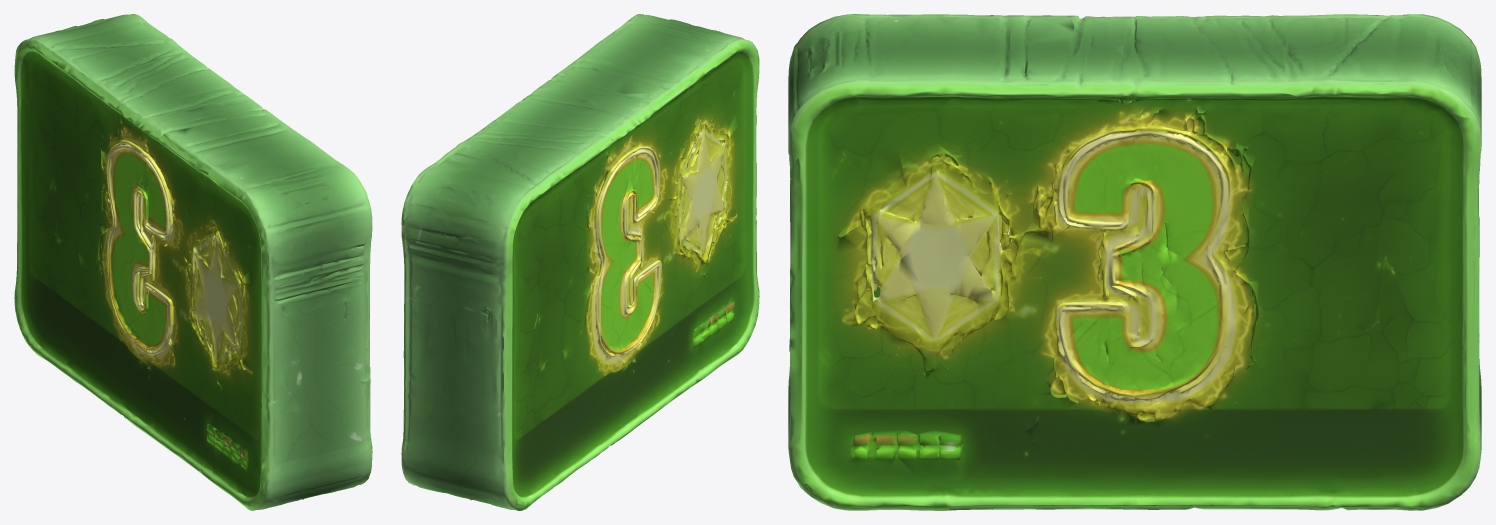
The model's file is Tarjeta3.fbx.
3 views of the same model, side by side, from view 1: azimuth 30°, elevation 25°; view 2: azimuth 150°, elevation 25°; view 3: azimuth 270°, elevation 25° (orthographic). The views are drawn at different scales.
Visible parts, largest first — view 1: tripo_node_f86fba68; view 2: tripo_node_f86fba68; view 3: tripo_node_f86fba68.
Part boxes in pixels (x1,y1,x2,y2): tripo_node_f86fba68: (14, 14, 372, 510); tripo_node_f86fba68: (401, 14, 759, 510); tripo_node_f86fba68: (788, 14, 1481, 510).
Bounding box in the file's own units: 0.2569 × 0.6866 × 0.9999.
1 material, 1 textured.
